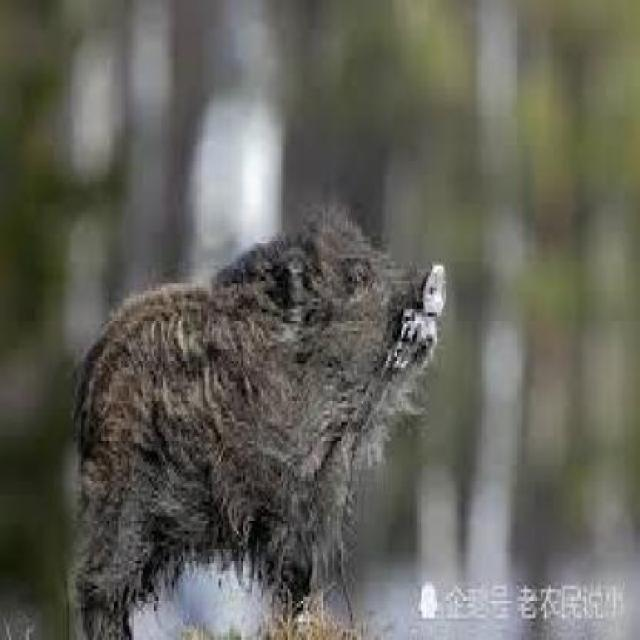wildboar: (56, 194, 456, 640)
